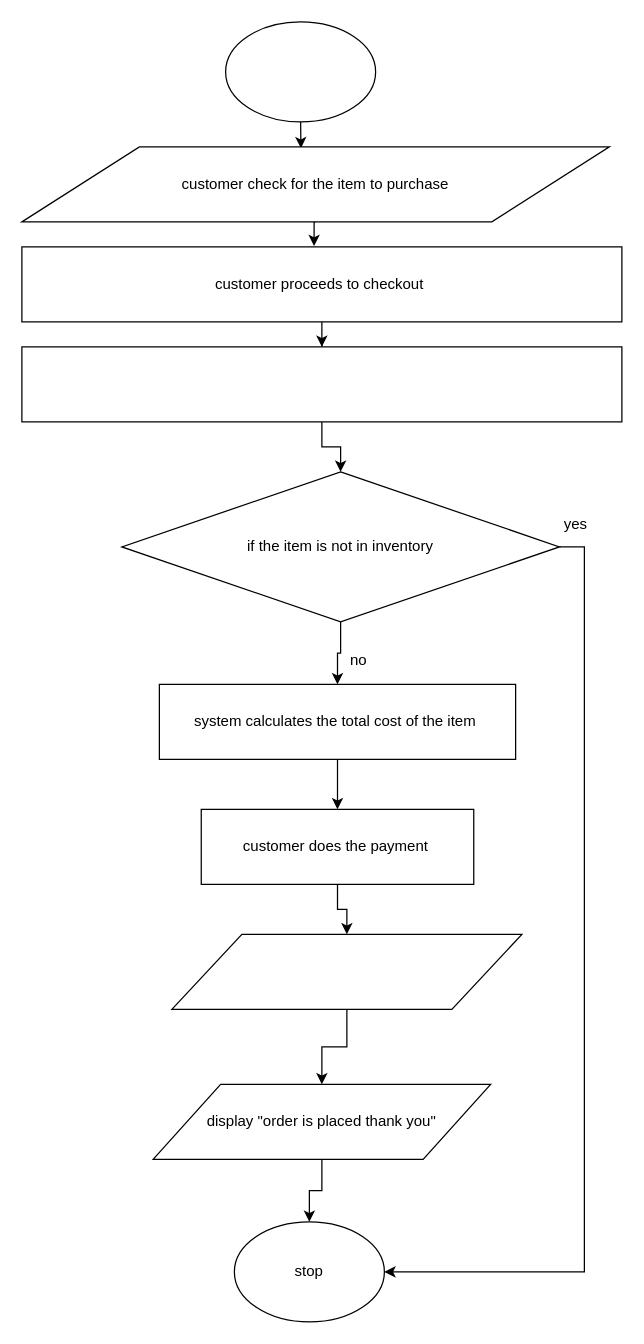
Some shapes in this 644 by 1344 pixel diagram are drawn without their labels. Here are the shapes that lost their labels. From the top down, the centre of each, then its label:
(300,71): start
(321,384): system check for inventory levels
(346,971): system verifies the payment
